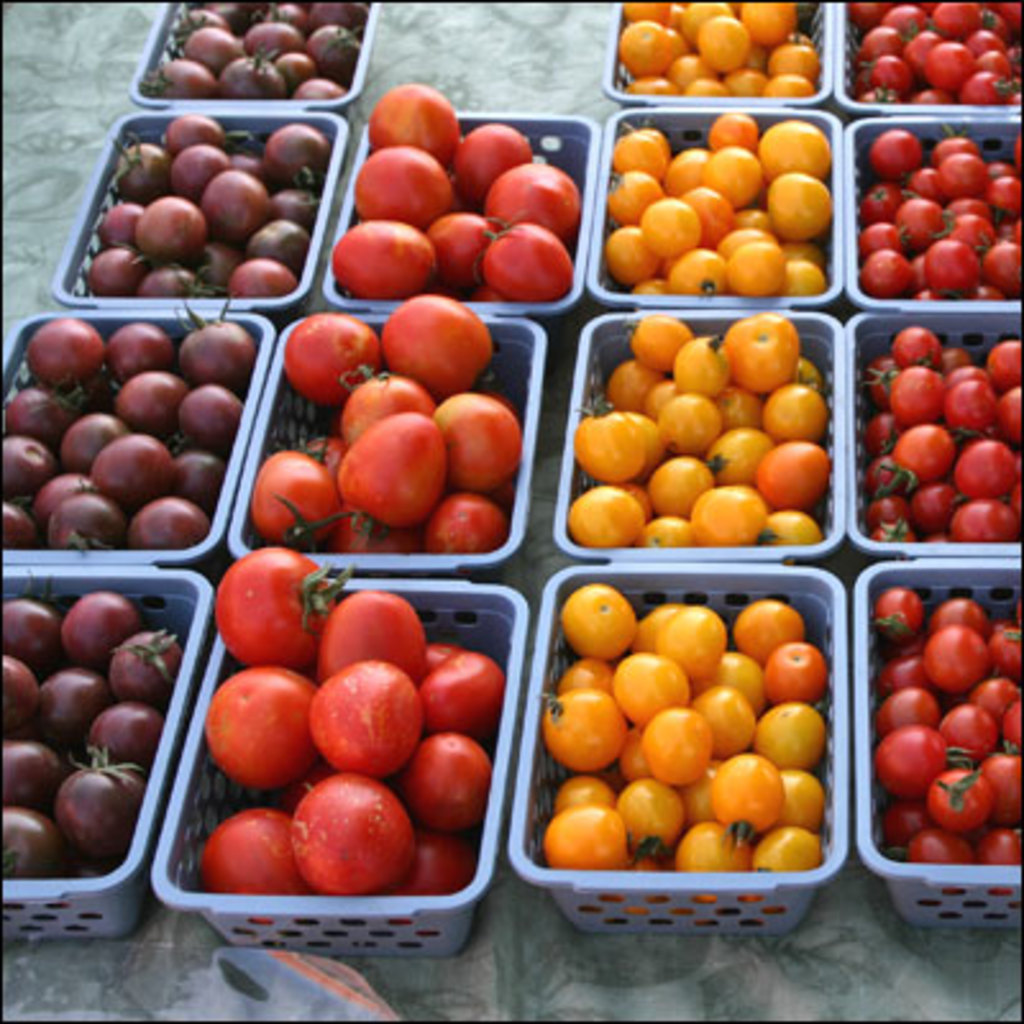Tomato: (545, 583, 826, 872), (570, 309, 829, 540), (606, 112, 829, 291), (883, 593, 1016, 878), (867, 330, 1021, 547), (865, 135, 1018, 294), (207, 540, 353, 668), (849, 0, 1021, 102), (624, 0, 814, 92), (294, 778, 414, 901), (199, 668, 314, 788), (294, 665, 424, 770), (381, 291, 496, 394), (343, 412, 435, 535), (325, 588, 435, 686), (350, 145, 455, 227), (424, 640, 506, 744), (250, 450, 348, 537), (202, 808, 296, 898), (332, 217, 435, 299), (273, 317, 378, 394), (368, 76, 463, 161), (437, 389, 519, 483), (483, 222, 568, 302), (491, 161, 578, 235), (350, 358, 432, 435), (414, 732, 486, 814), (453, 125, 532, 194), (435, 488, 499, 547), (407, 844, 463, 906), (435, 209, 481, 279)
